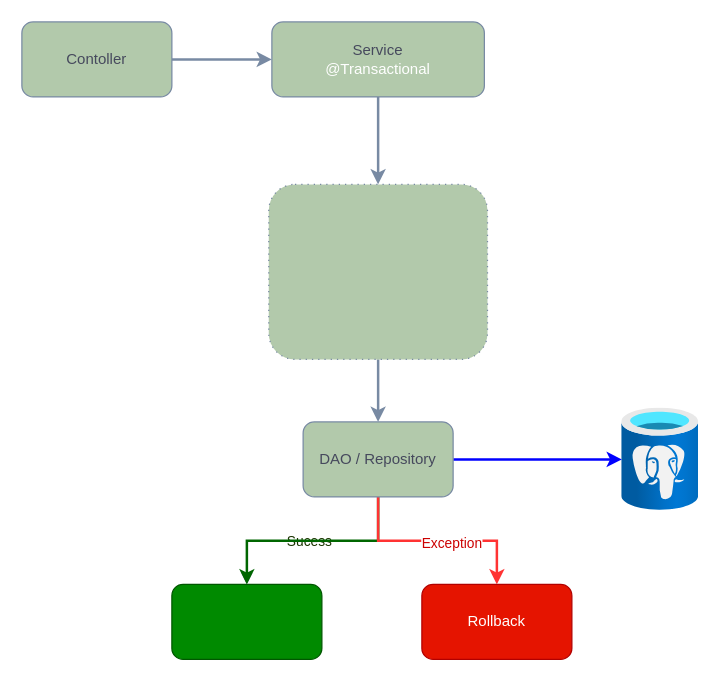
The diagram is 720 pixels wide and 681 high, and some of its shapes have lost their labels. Each missing label, with the centre of its shape:
"AOP Proxy Transactional Manager Begin Tx Isolation Propagate" goes at [378,271].
"Commit" goes at [246,621].
